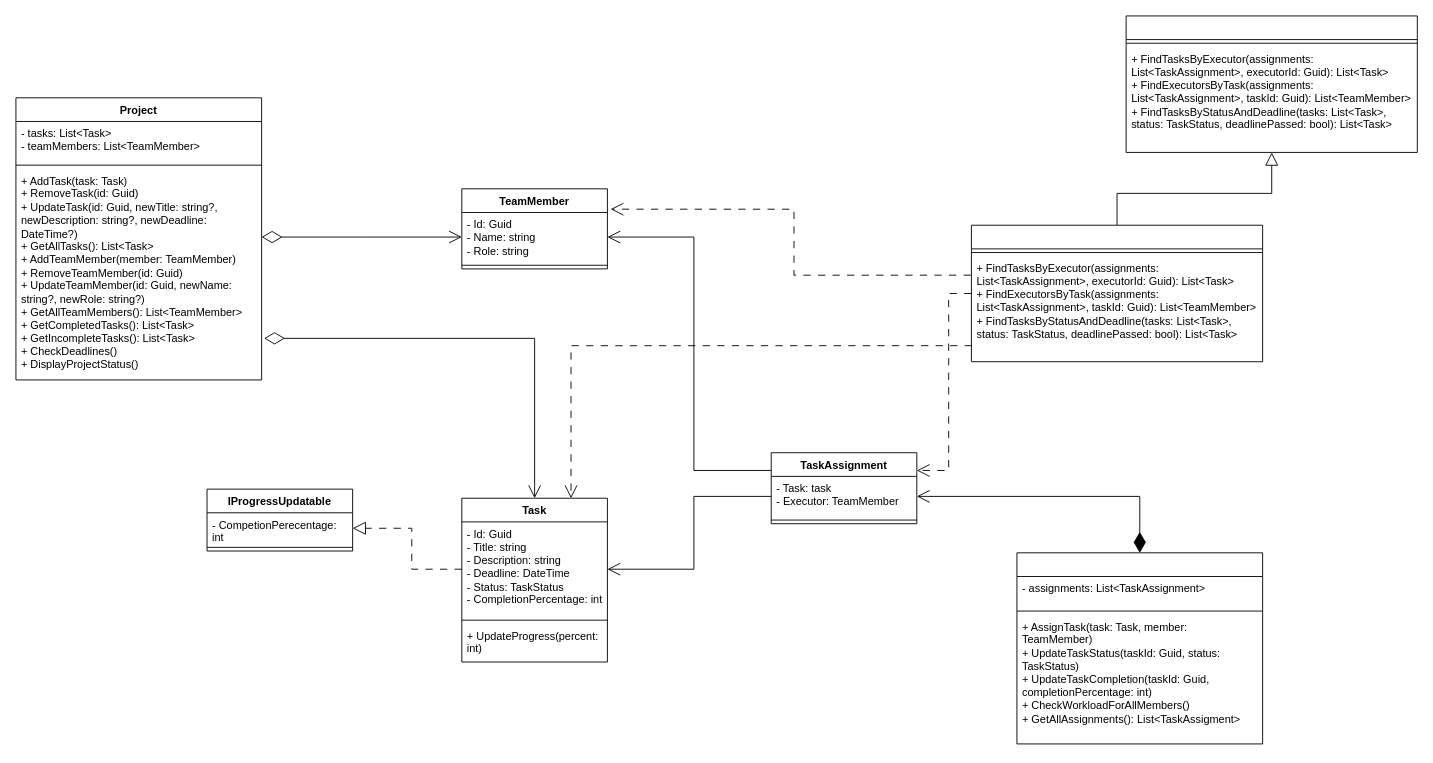
This 1433x763 diagram has some shape labels left out. Each missing label, with the box of its shape:
Search: (971, 224, 1263, 362)
SearchBase: (1125, 15, 1417, 152)
TaskManager: (1016, 552, 1263, 744)
